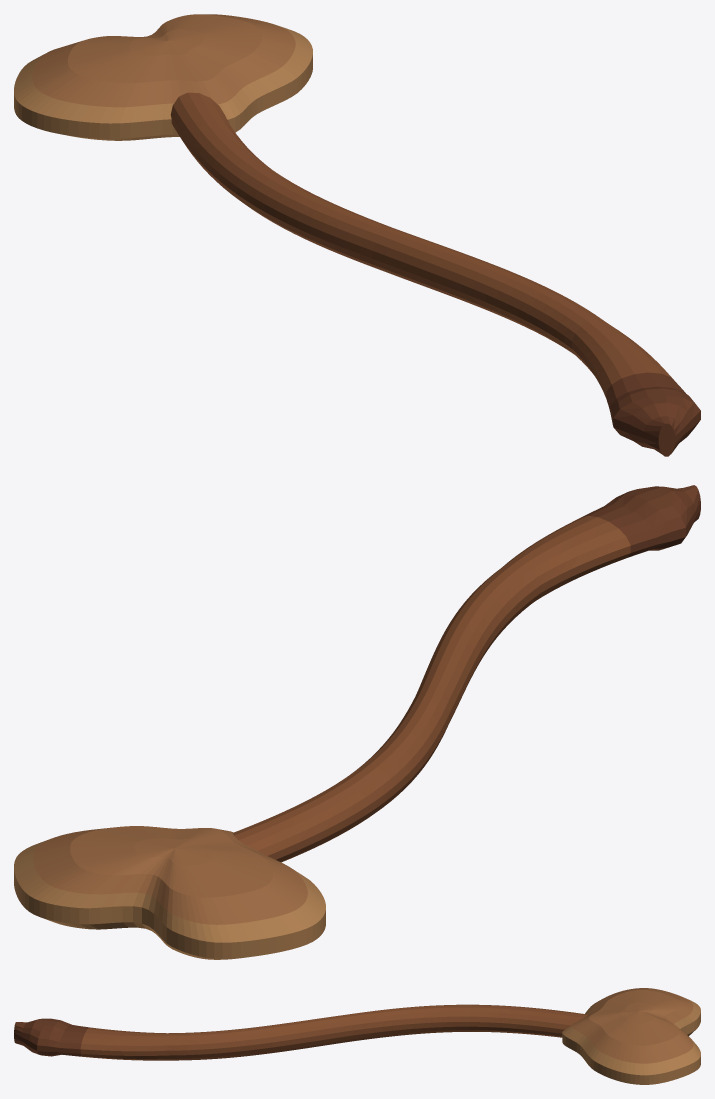
3 renders of one model, top to bottom at view 1: azimuth 30°, elevation 25°; view 2: azimuth 150°, elevation 25°; view 3: azimuth 270°, elevation 25°, orthographic. The views are drawn at different scales.
Parts seen in each view (by area): view 1: WholeDoubleCurvedShaftAndFlaredTerminal, WholeLobedCloudHeadWithConvexUninscribedFace; view 2: WholeLobedCloudHeadWithConvexUninscribedFace, WholeDoubleCurvedShaftAndFlaredTerminal; view 3: WholeDoubleCurvedShaftAndFlaredTerminal, WholeLobedCloudHeadWithConvexUninscribedFace.
Boxes of the visible parts, x1,y1,x2,y2 form: WholeDoubleCurvedShaftAndFlaredTerminal: (170, 92, 700, 456); WholeLobedCloudHeadWithConvexUninscribedFace: (14, 14, 312, 140); WholeLobedCloudHeadWithConvexUninscribedFace: (14, 826, 325, 959); WholeDoubleCurvedShaftAndFlaredTerminal: (232, 485, 700, 862); WholeDoubleCurvedShaftAndFlaredTerminal: (14, 1004, 588, 1060); WholeLobedCloudHeadWithConvexUninscribedFace: (562, 988, 700, 1084).
Size of the model in its own units: 0.1143 by 0.022 by 0.386.
